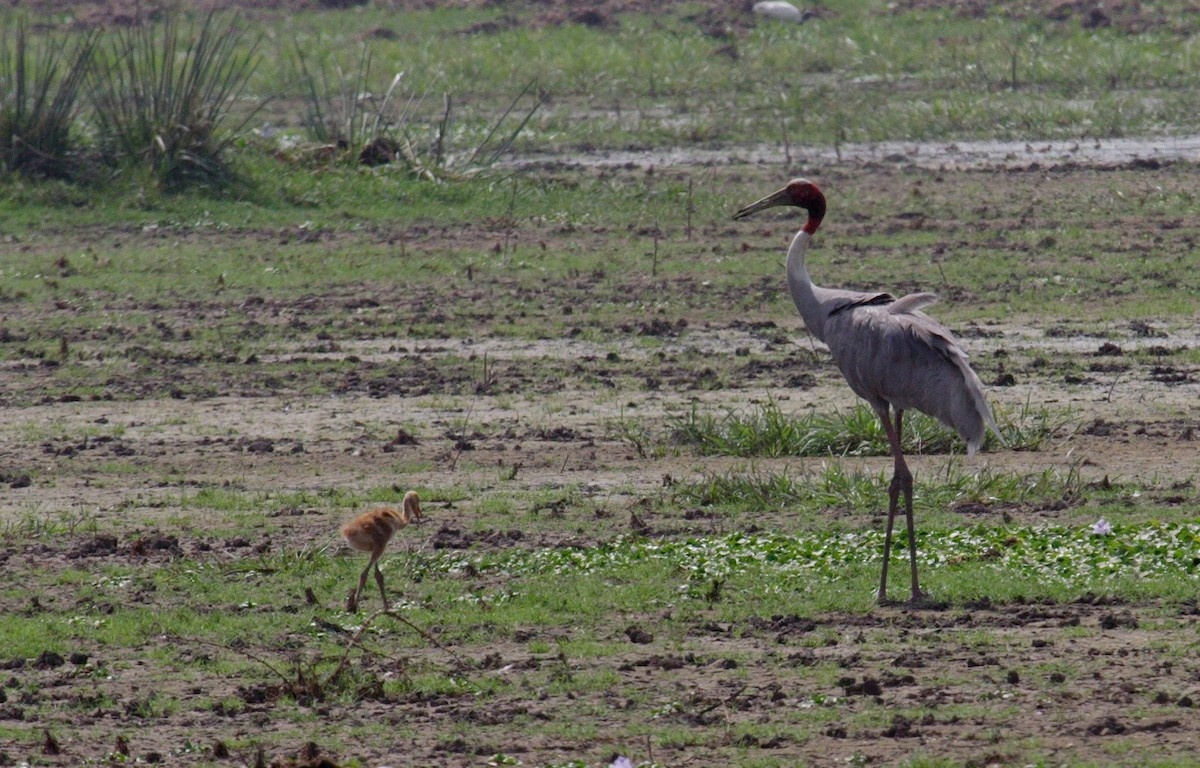crane: (725, 169, 1003, 616)
